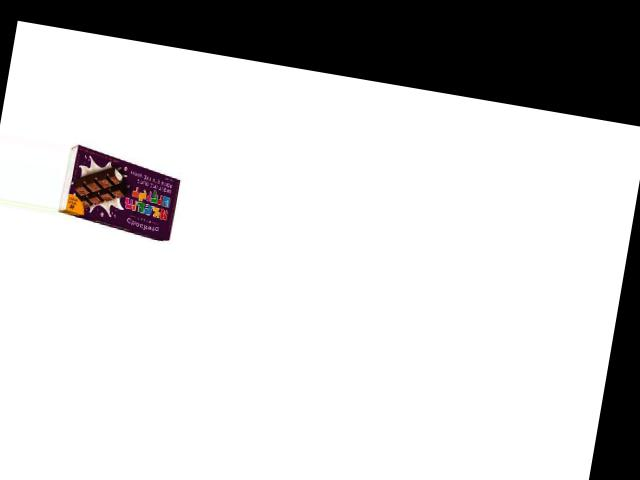chocolate: (54, 148, 190, 243)
